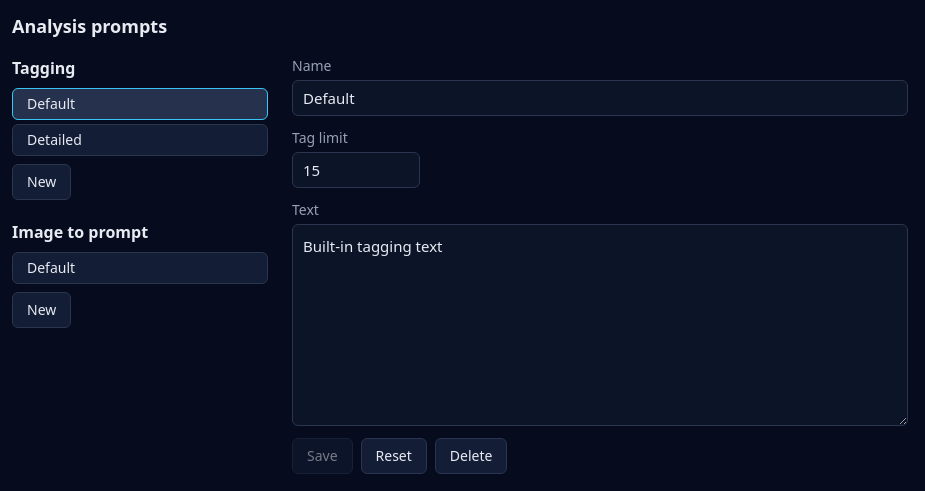
Test: shows both lists and the editor of the selected entry
This screenshot has width=925, height=491.
Expected: the heading "Analysis prompts" is shown, [12, 14, 167, 38]
Expected: the list items read "Default", in this order, [12, 252, 268, 284]
Click the button "Detailed".
click(140, 140)  # box [12, 124, 268, 156]
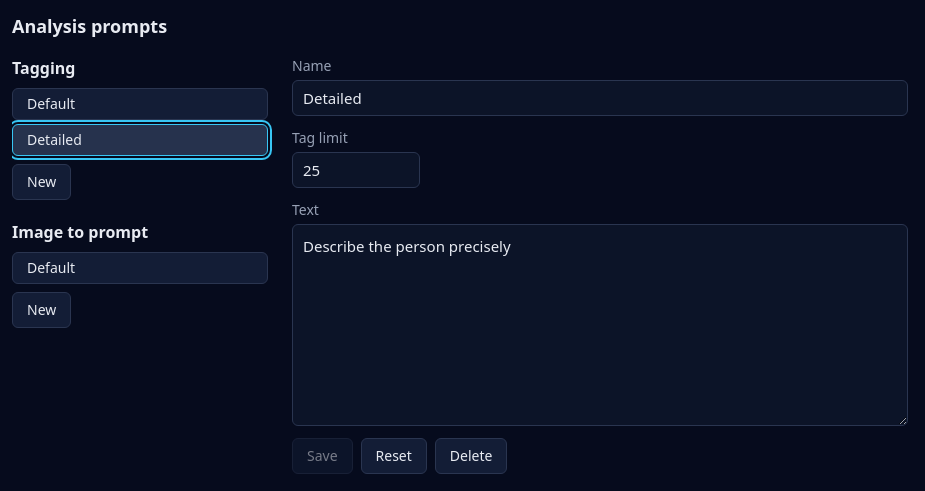
Now the field labelled "Name" holds "Detailed", box [292, 80, 908, 116]
Now the number field labelled "Tag limit" holds "25", box [292, 152, 420, 188]
Now the text box labelled "Text" holds "Describe the person precisely", box [292, 224, 908, 426]
Click the button "Default" below "Image to prompt".
click(140, 268)  # box [12, 252, 268, 284]
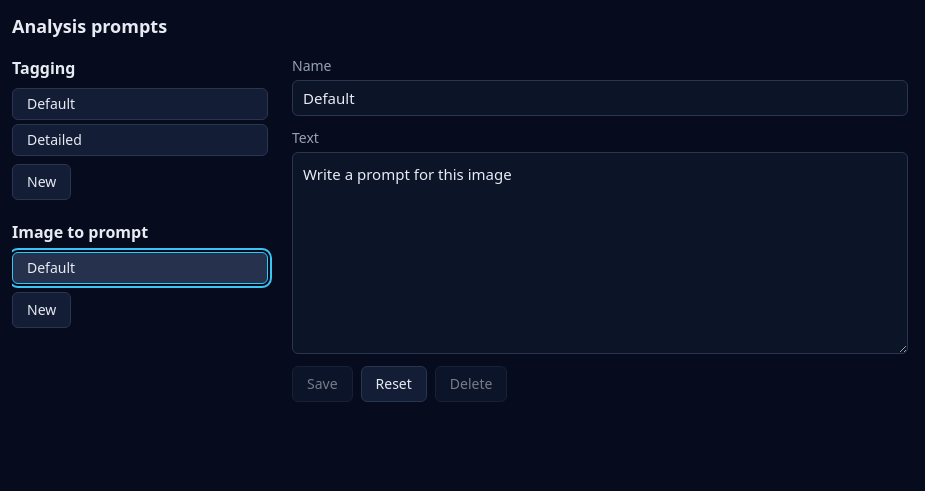
Now the text box labelled "Text" holds "Write a prompt for this image", box [292, 152, 908, 354]
Now the text labelled "Tag limit" is gone
